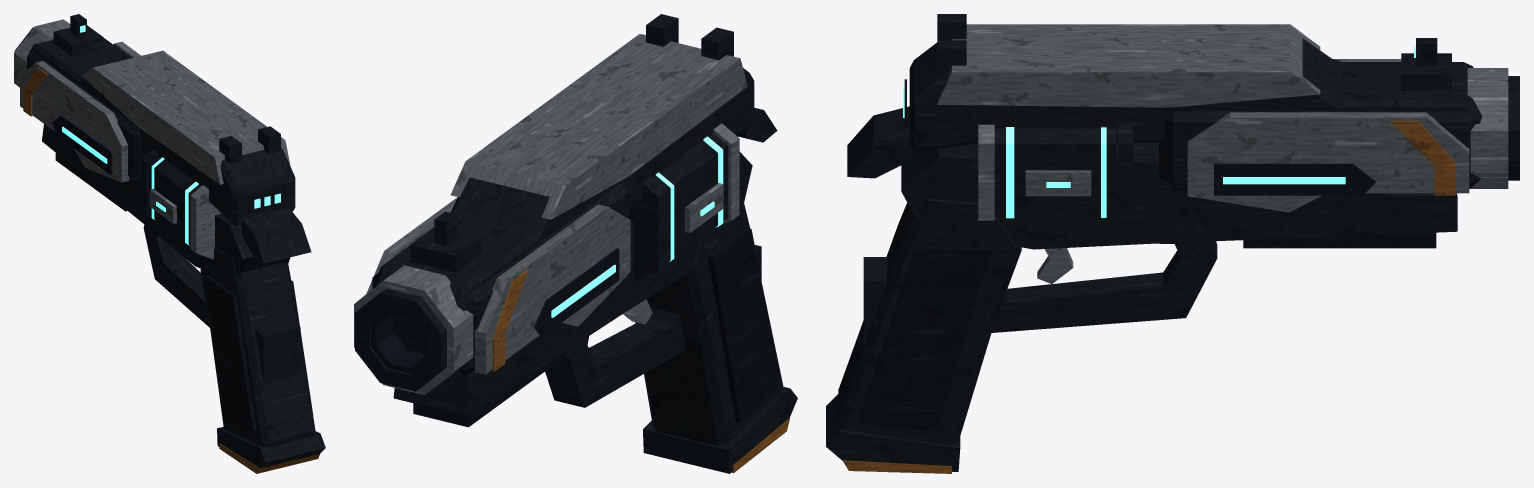
The model's file is starter_pistol.glb.
The picture shows the model from 3 angles, left to right: view 1: azimuth 30°, elevation 25°; view 2: azimuth 150°, elevation 25°; view 3: azimuth 270°, elevation 25°; orthographic projection. The views are drawn at different scales.
Parts seen in each view (by area): view 1: StarterPistol_Mesh, PistolEnergyCell; view 2: StarterPistol_Mesh, PistolEnergyCell; view 3: StarterPistol_Mesh, PistolEnergyCell.
Boxes of the visible parts, box(x1,y1,x2,y2) form: StarterPistol_Mesh: box(14, 14, 315, 447); PistolEnergyCell: box(217, 321, 325, 473); StarterPistol_Mesh: box(354, 14, 783, 446); PistolEnergyCell: box(643, 245, 797, 473); StarterPistol_Mesh: box(838, 14, 1519, 444); PistolEnergyCell: box(826, 257, 960, 473).
Size of the model in its own units: 0.1 by 0.2845 by 0.424.
7 materials, 5 textured.
